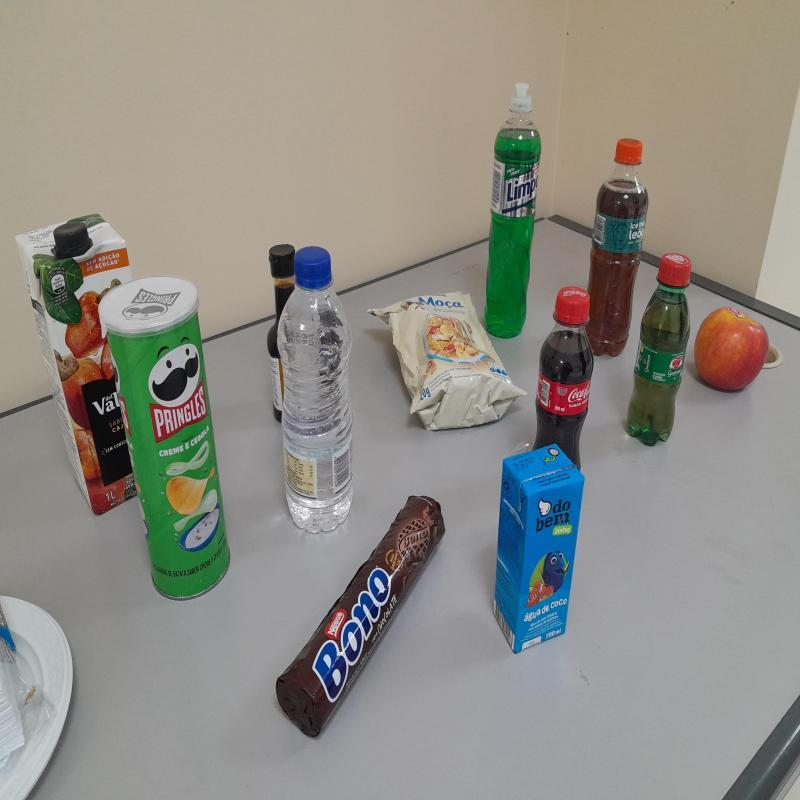Apple: (694, 306, 771, 394)
Cleaner: (481, 85, 541, 340)
CoconutWater: (494, 445, 581, 658)
Coke: (533, 288, 595, 466)
Cookies: (280, 493, 445, 742)
CornFlakes: (376, 288, 522, 437)
EnglishSauce: (272, 246, 293, 328)
Guarana: (625, 252, 690, 444)
IceTea: (587, 139, 652, 360)
Pringles: (100, 271, 237, 601)
Water: (274, 246, 358, 535)
